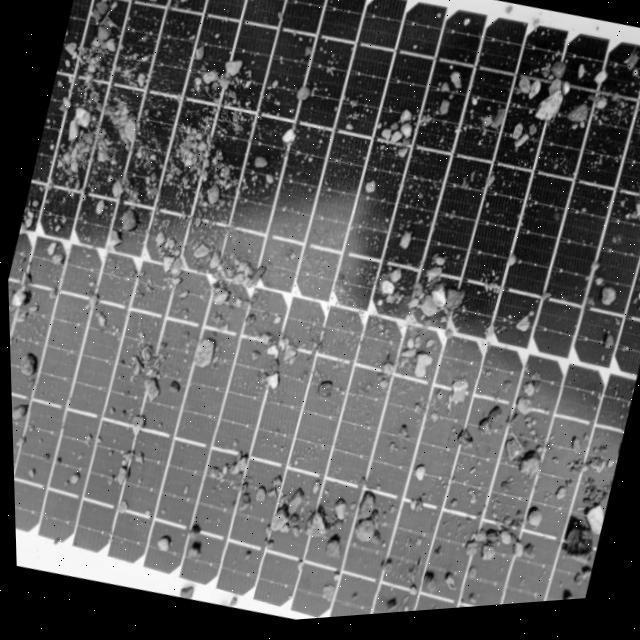Surface Contaminant: (7, 0, 640, 620)
